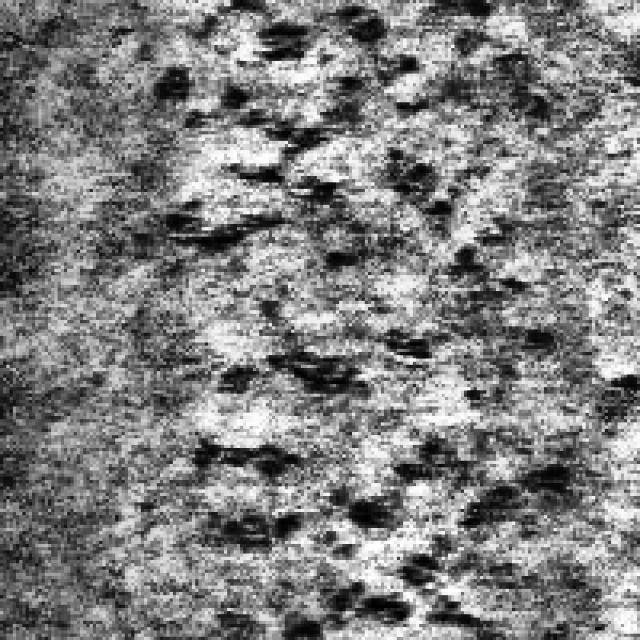Crazing: (189, 323, 560, 634), (147, 0, 499, 278)
